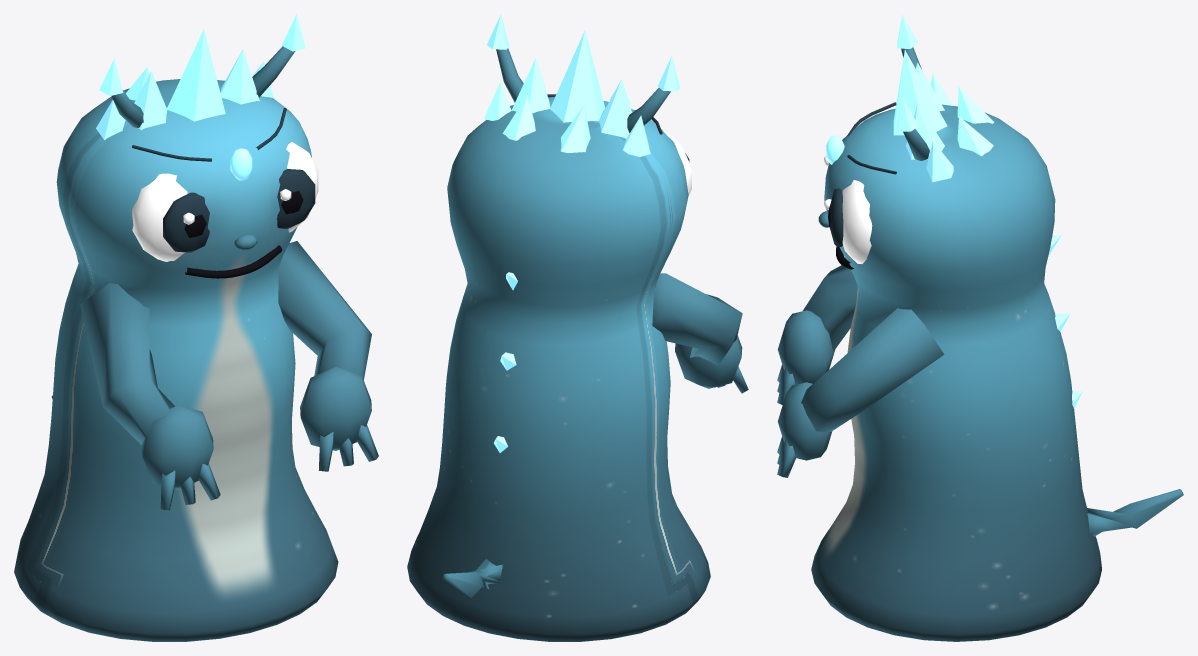
Rendered from glaciar_pixar.glb.
3 views of the same model, side by side, from view 1: azimuth 30°, elevation 25°; view 2: azimuth 150°, elevation 25°; view 3: azimuth 270°, elevation 25° (orthographic). The views are drawn at different scales.
Visible parts, largest first — view 1: glaciar_cuerpo; view 2: glaciar_cuerpo; view 3: glaciar_cuerpo.
Boxes of the visible parts, <box> form: glaciar_cuerpo: <box>14,14,378,641</box>; glaciar_cuerpo: <box>407,14,748,641</box>; glaciar_cuerpo: <box>777,14,1183,641</box>.
Size of the model in its own units: 0.3026 by 0.58 by 0.4025.
5 materials, 1 textured.
